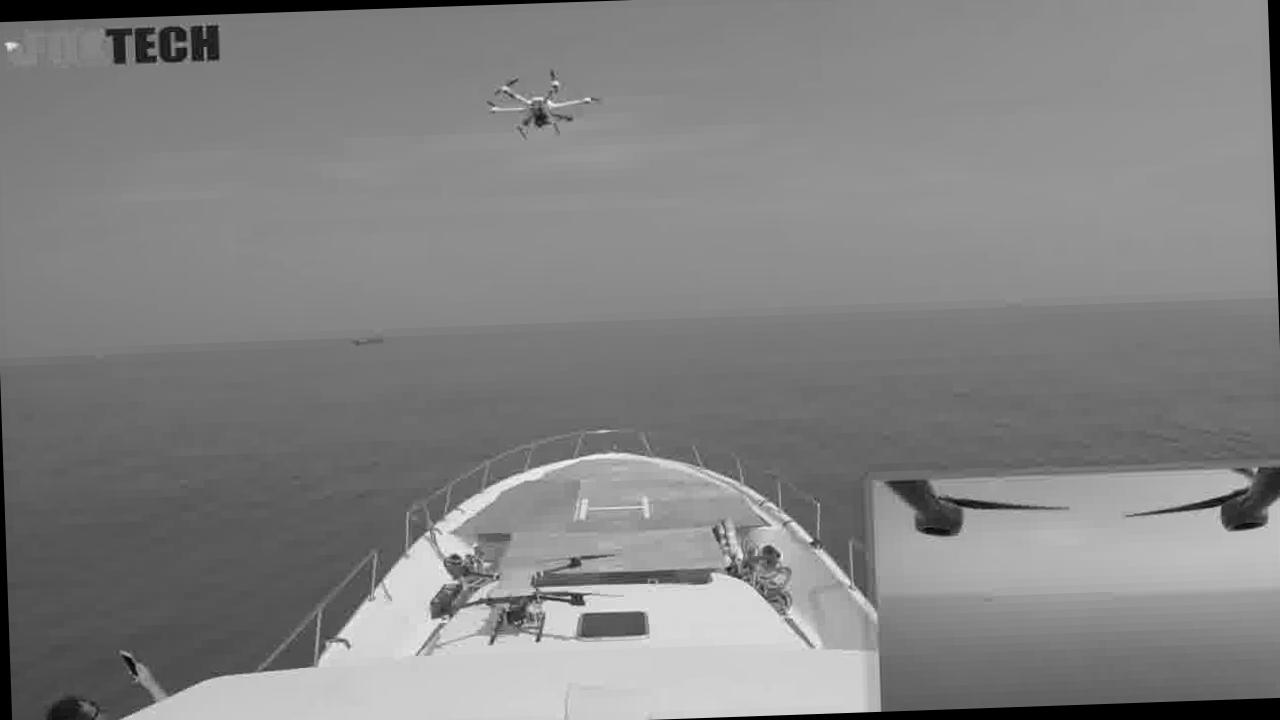drone: (486, 65, 596, 146)
